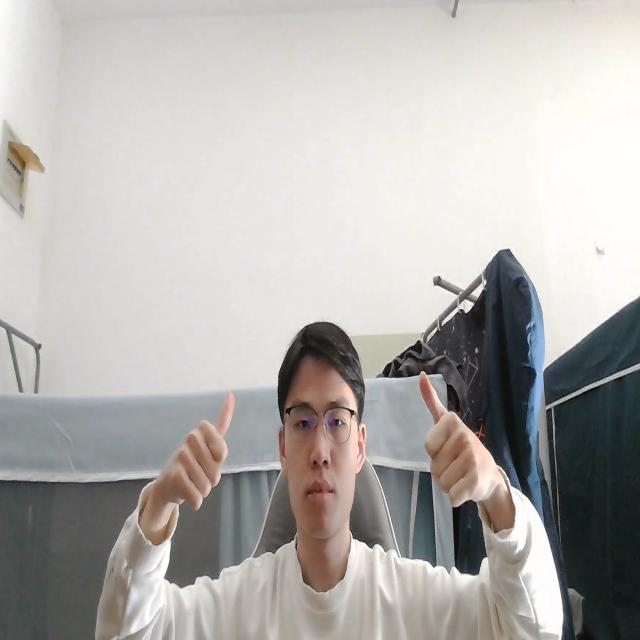good: (142, 385, 239, 529), (416, 369, 498, 511)
